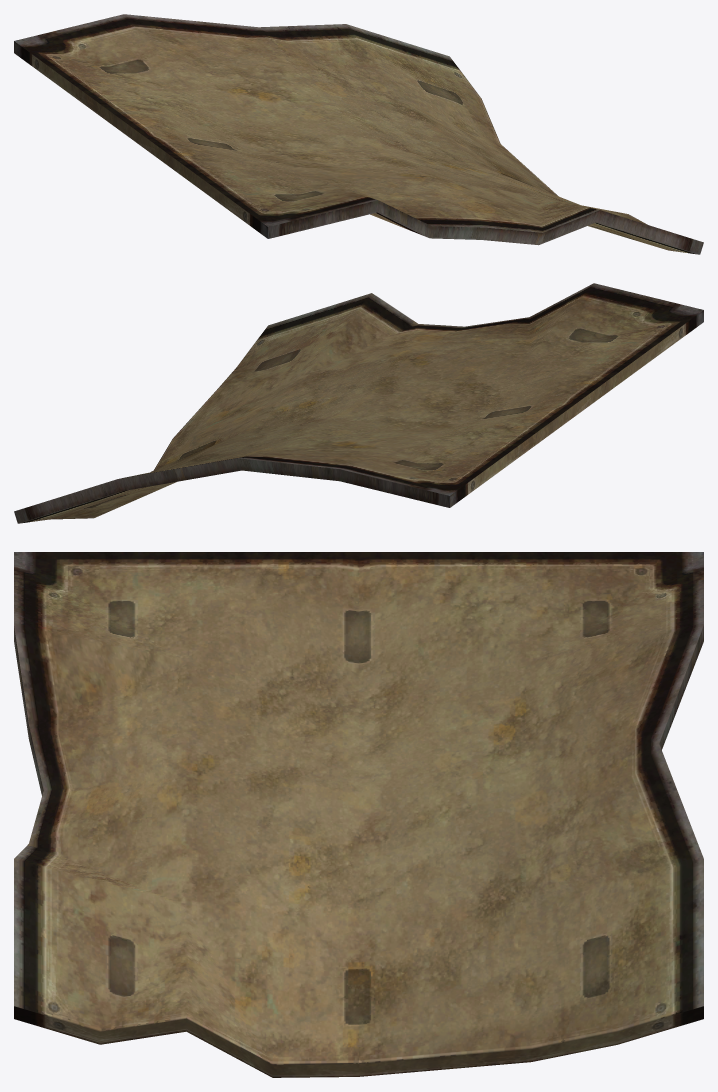
Rendered from pptiling_light_damaged03.dae.
3 views of the same model, one above another, from view 1: azimuth 30°, elevation 25°; view 2: azimuth 150°, elevation 25°; view 3: azimuth 270°, elevation 25° (orthographic). The views are drawn at different scales.
Parts seen in each view (by area): view 1: pCube2; view 2: pCube2; view 3: pCube2.
Part boxes in pixels (x1,y1,x2,y2): pCube2: (14,14,703,254); pCube2: (14,283,703,523); pCube2: (14,552,703,1077).
Size of the model in its own units: 1.98 by 0.7902 by 2.
